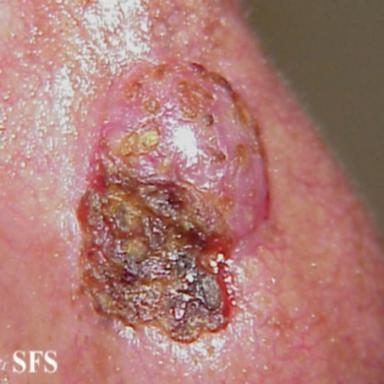basal-cell-carcinoma: (74, 61, 273, 343)
